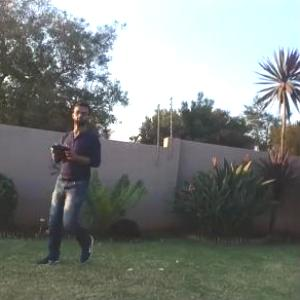follow: (29, 90, 104, 268)
